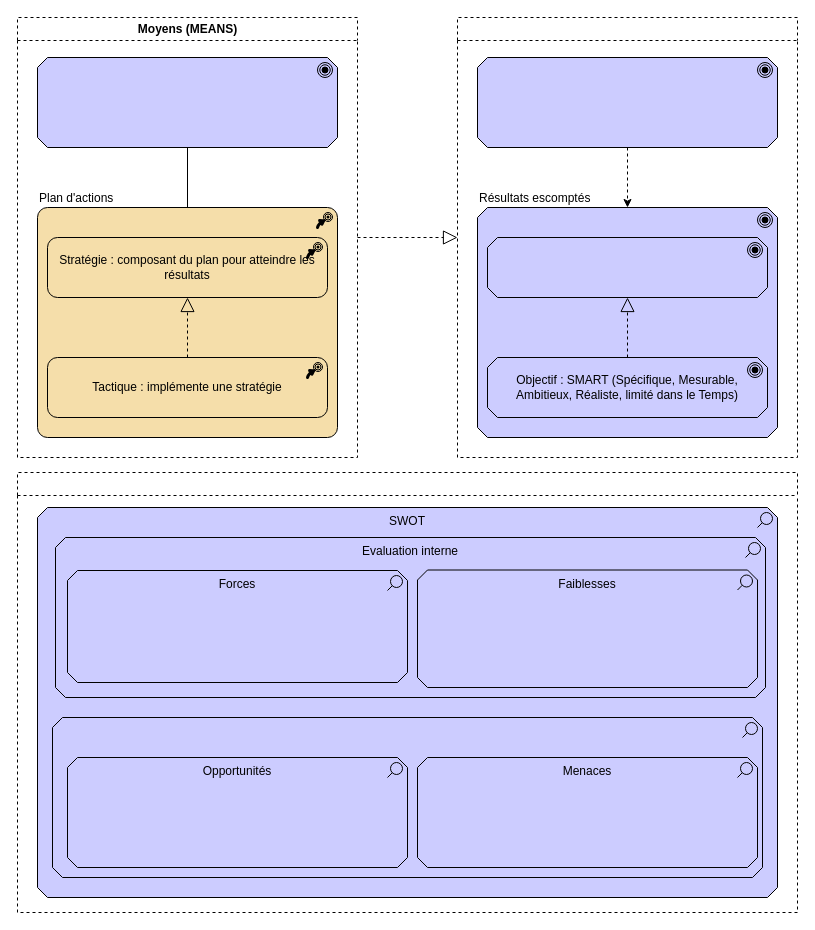
Some shapes in this 815 by 930 pixel diagram are drawn without their labels. The shapes that lost their labels are listed below. From the top down, each one's box as (x1, y1, x2, y2) in pixels, then its label:
(36, 56, 338, 148): Mission : état actuel de l'entreprise
(476, 56, 778, 148): Vision : état futur que l'entreprise devrait atteindre
(456, 16, 798, 458): Finalités (ENDS)
(486, 236, 768, 298): But : qualitatif - long terme
(16, 472, 798, 912): Evaluation
(52, 716, 762, 878): Evaluation externe
